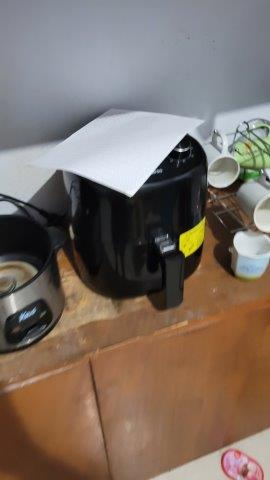kertas: (25, 102, 208, 205)
